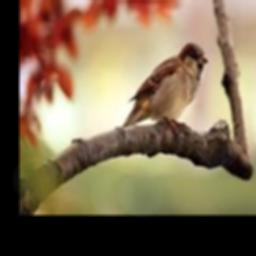Sparrow: (121, 42, 208, 128)
